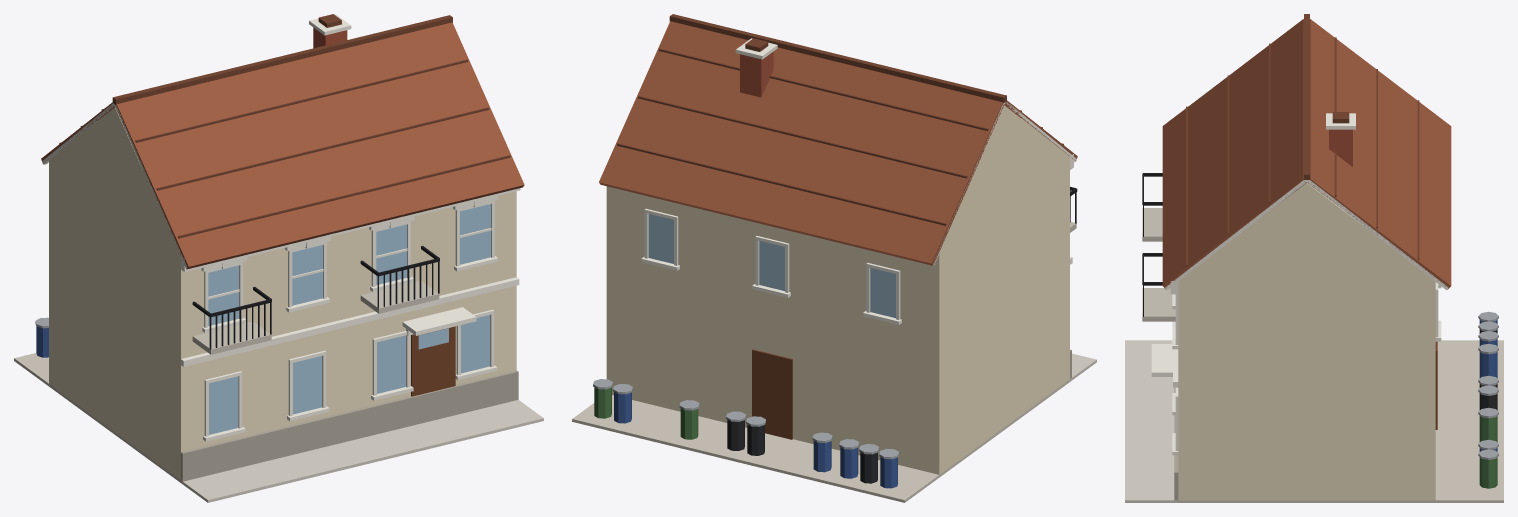
Rendered from Blok_duz_2k_1_Hafif.fbx.
3 views of the same model, side by side, from view 1: azimuth 30°, elevation 25°; view 2: azimuth 150°, elevation 25°; view 3: azimuth 270°, elevation 25° (orthographic). The views are drawn at different scales.
Visible parts, largest first — view 1: Blok_duz_2k_1_Hafif; view 2: Blok_duz_2k_1_Hafif; view 3: Blok_duz_2k_1_Hafif.
Boxes of the visible parts, bbox=[...] form: Blok_duz_2k_1_Hafif: bbox=[14, 14, 543, 502]; Blok_duz_2k_1_Hafif: bbox=[572, 14, 1096, 502]; Blok_duz_2k_1_Hafif: bbox=[1125, 14, 1503, 502].
Bounding box in the file's own units: 10.04 × 9.86 × 10.
